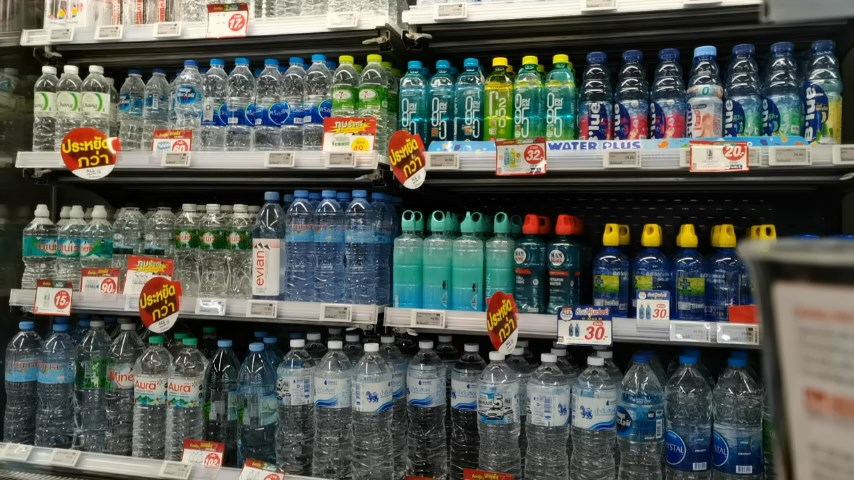1-1: (73, 323, 137, 455)
